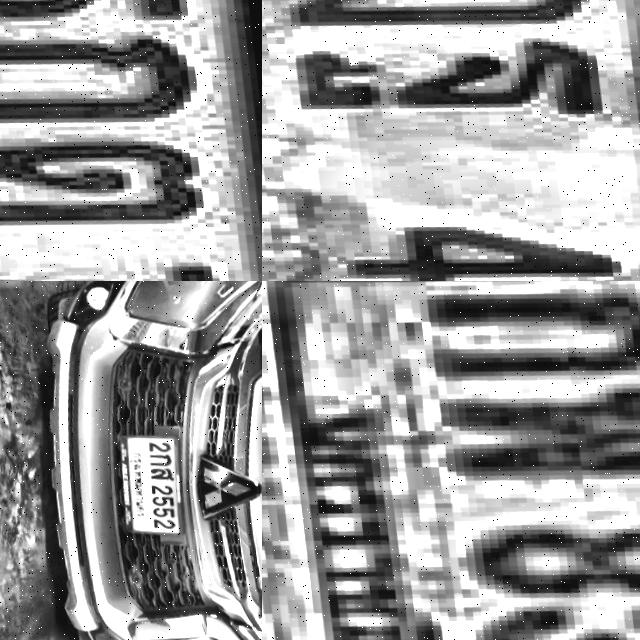license-plate: (262, 281, 640, 640), (262, 0, 640, 281), (0, 0, 262, 281), (111, 420, 187, 538)
